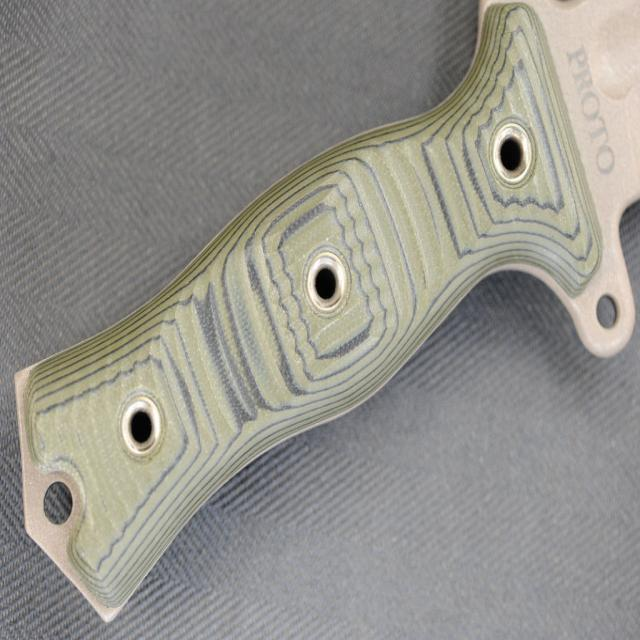Knife: (16, 0, 640, 619)
